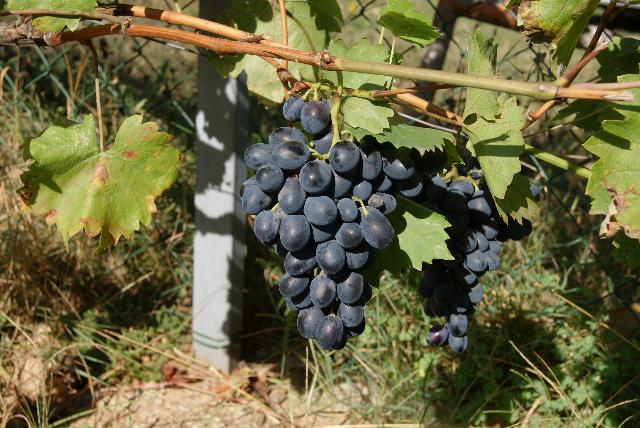grapes: (242, 141, 414, 350), (406, 174, 532, 352), (282, 95, 331, 139)
